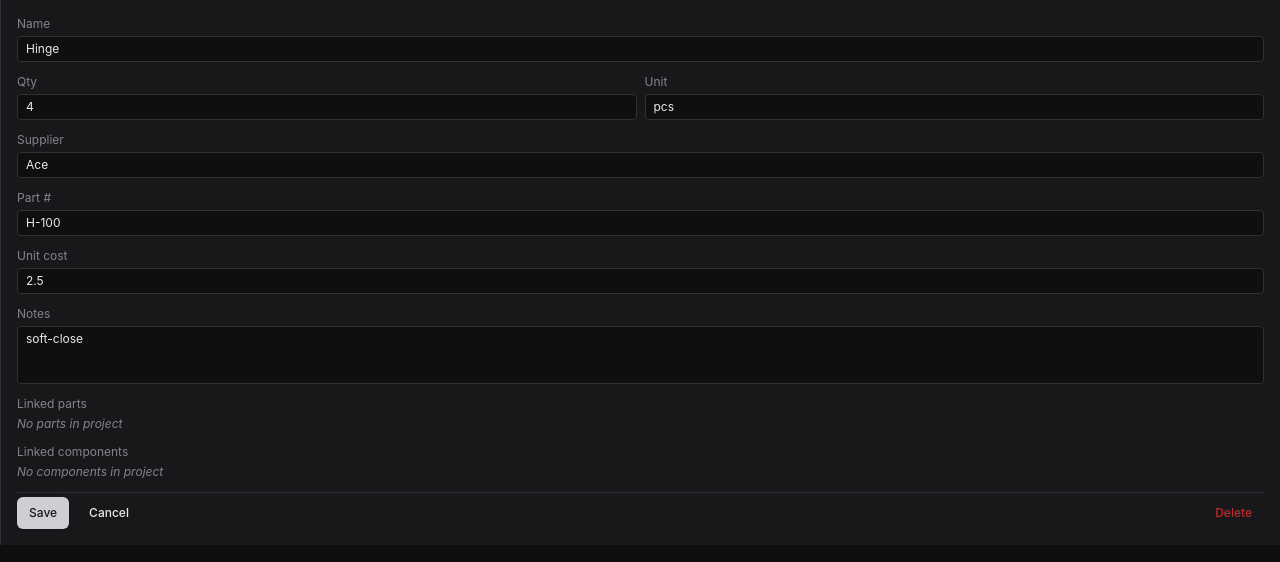
Test: HardwareEditPanel › shows Delete confirmation after clicking Delete
This screenshot has width=1280, height=562.
Click the button "Delete".
click(1234, 513)  # box [1203,497,1264,529]
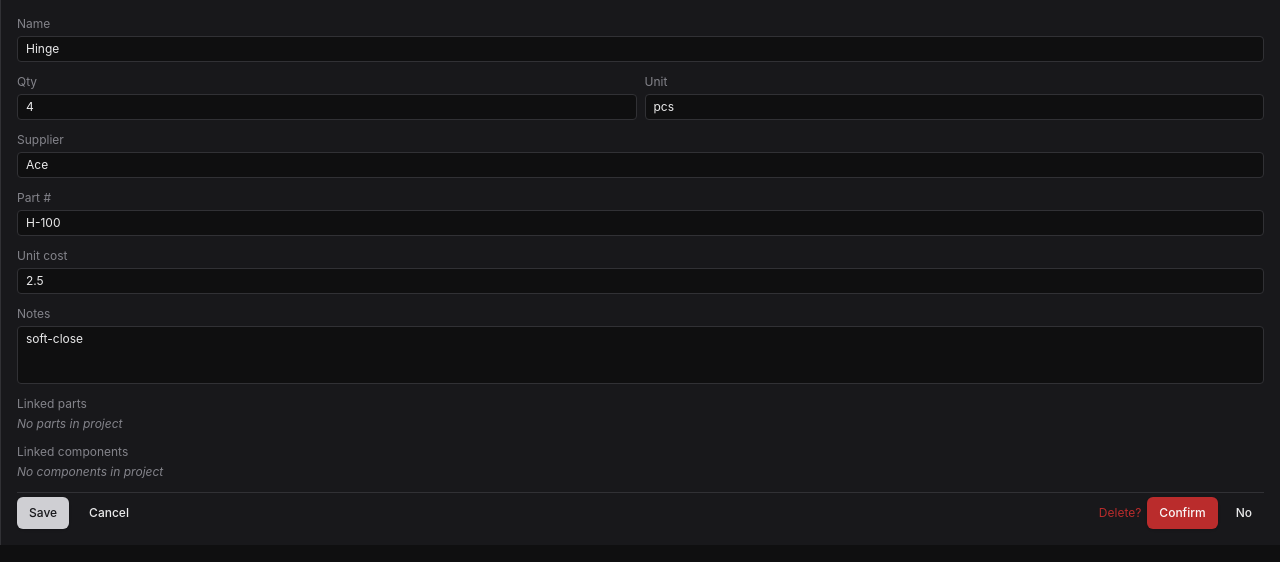
Result: the button "Confirm" is shown at [1147,497,1218,529]
